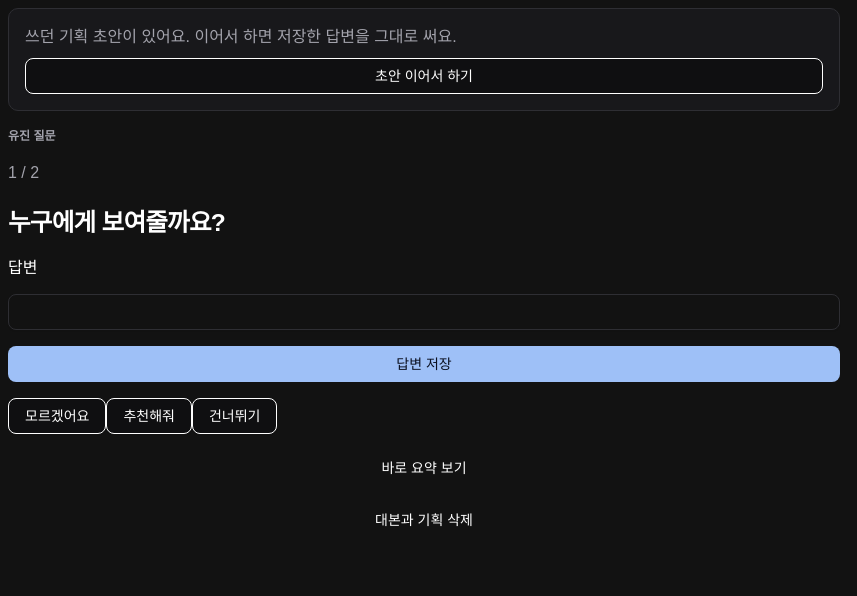
CreationInterview › keeps each question answer separate and restores only that question after going back
Step 1. Type "처음 방문한 고객" into the field labelled "답변" → (424, 312), box [8,294,840,330]
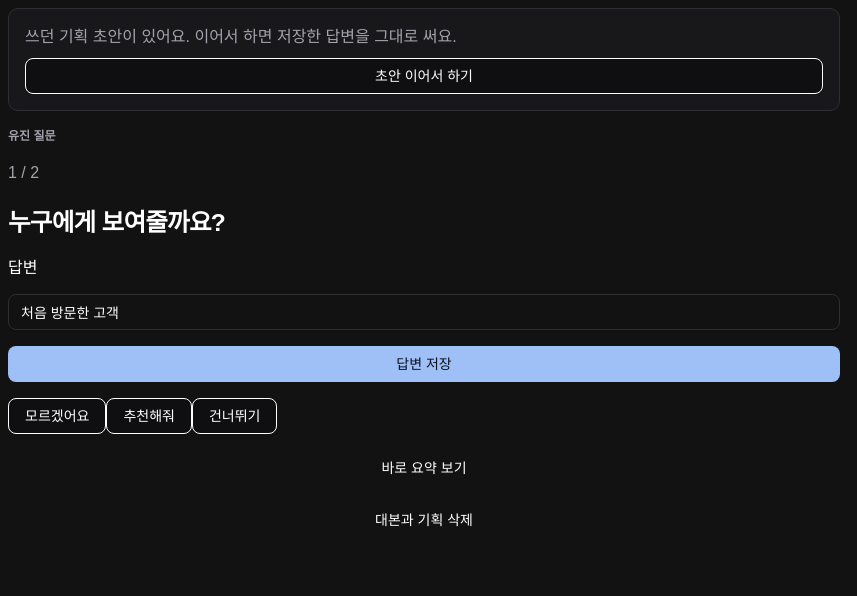
Step 2. Click the button "답변 저장" → (424, 364), box [8,346,840,382]
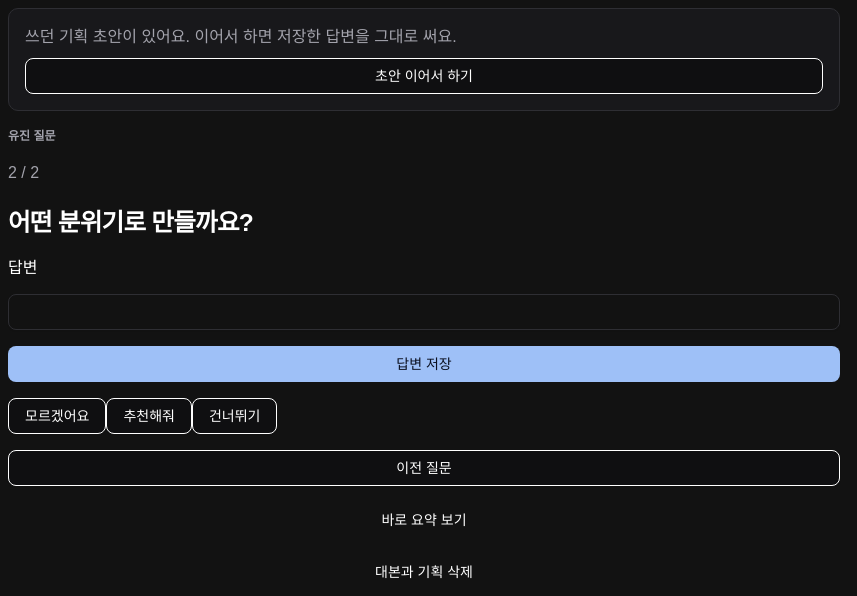
Result: the field labelled "답변" is empty at [8,294,840,330]
Step 3. Click the button "이전 질문" → (424, 468), box [8,450,840,486]
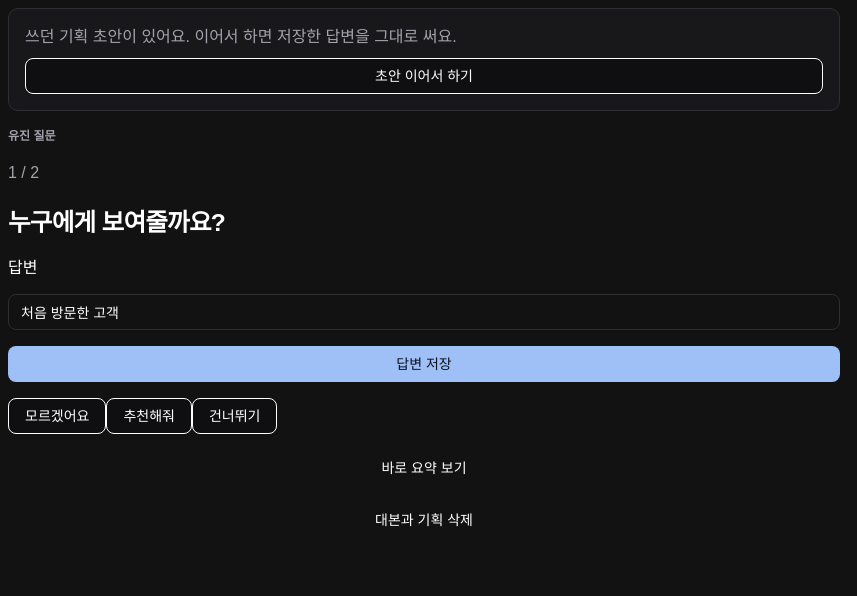
Result: the heading "누구에게 보여줄까요?" is shown at [8,209,225,236]
